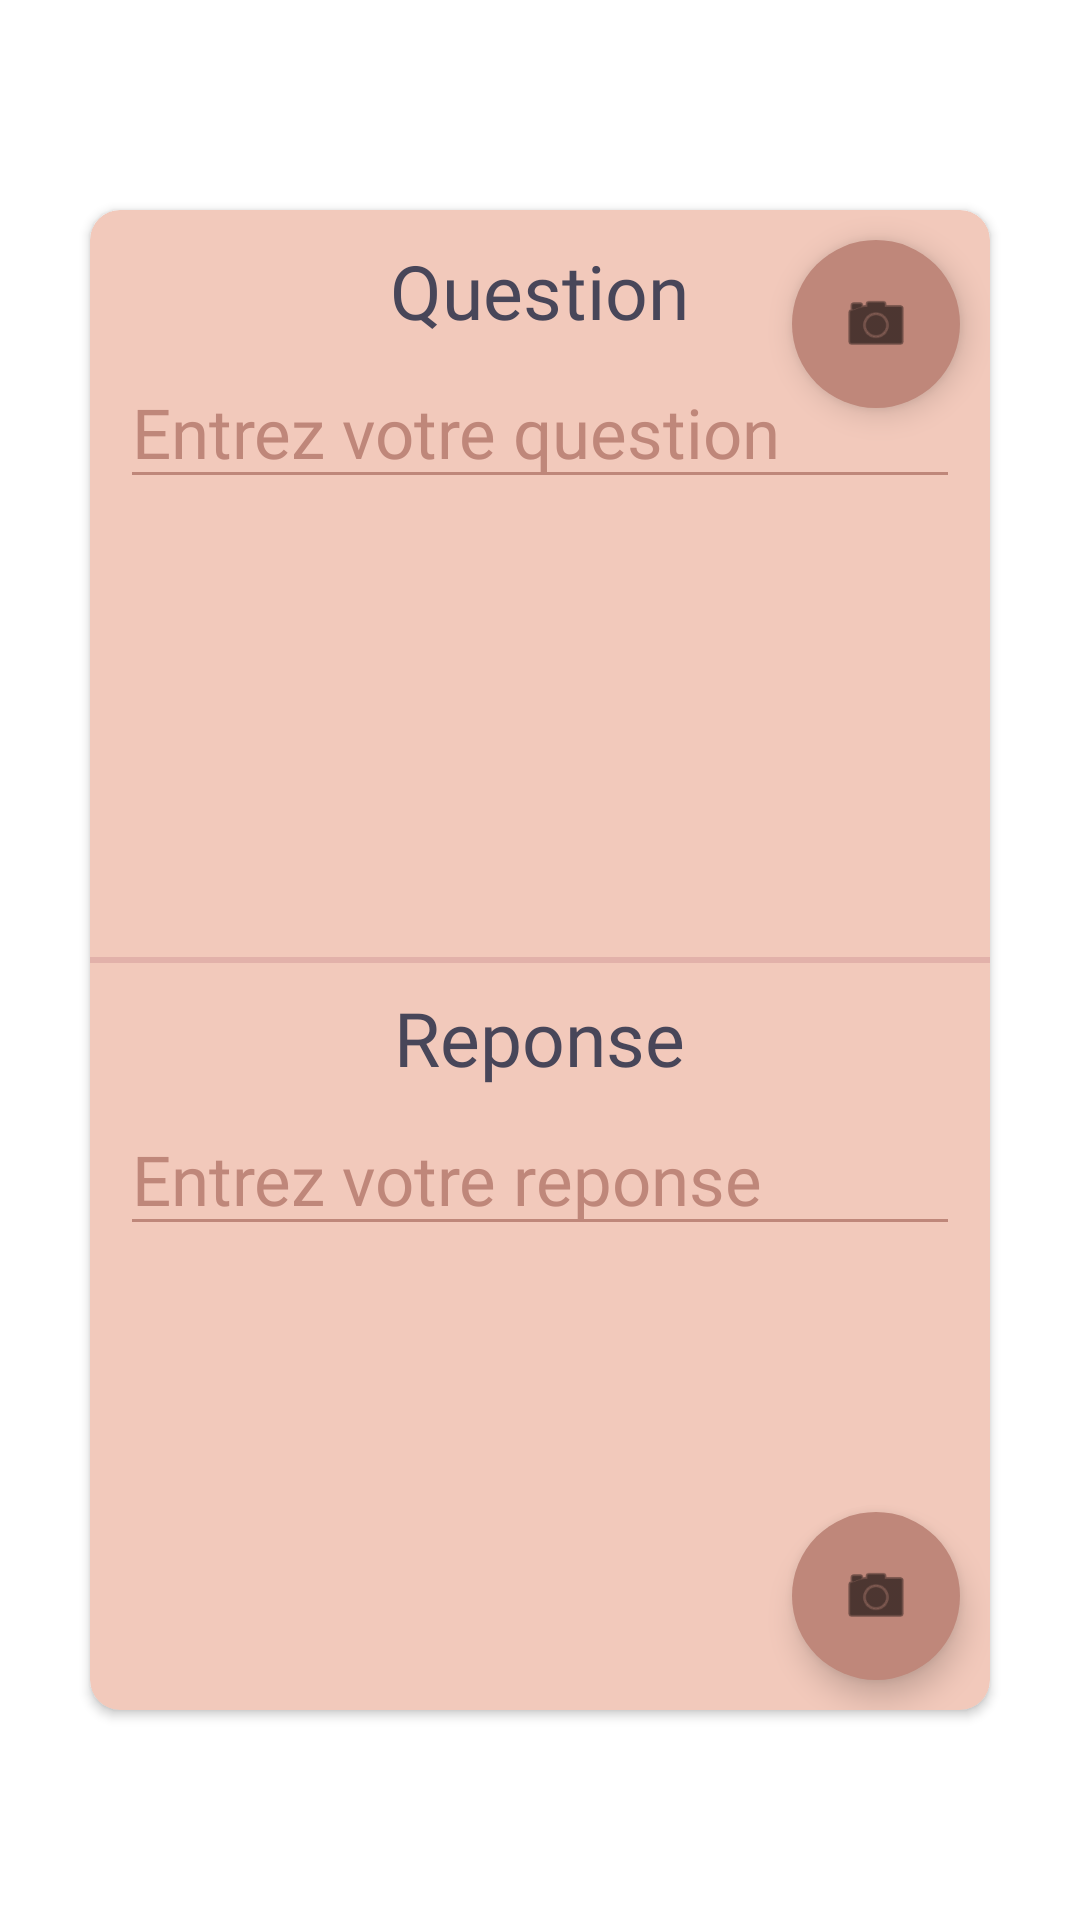

Screen size 1080 x 1920. Icon name, then its center in pixels as [x,y]:
camera: [876,324], [876,1596]
